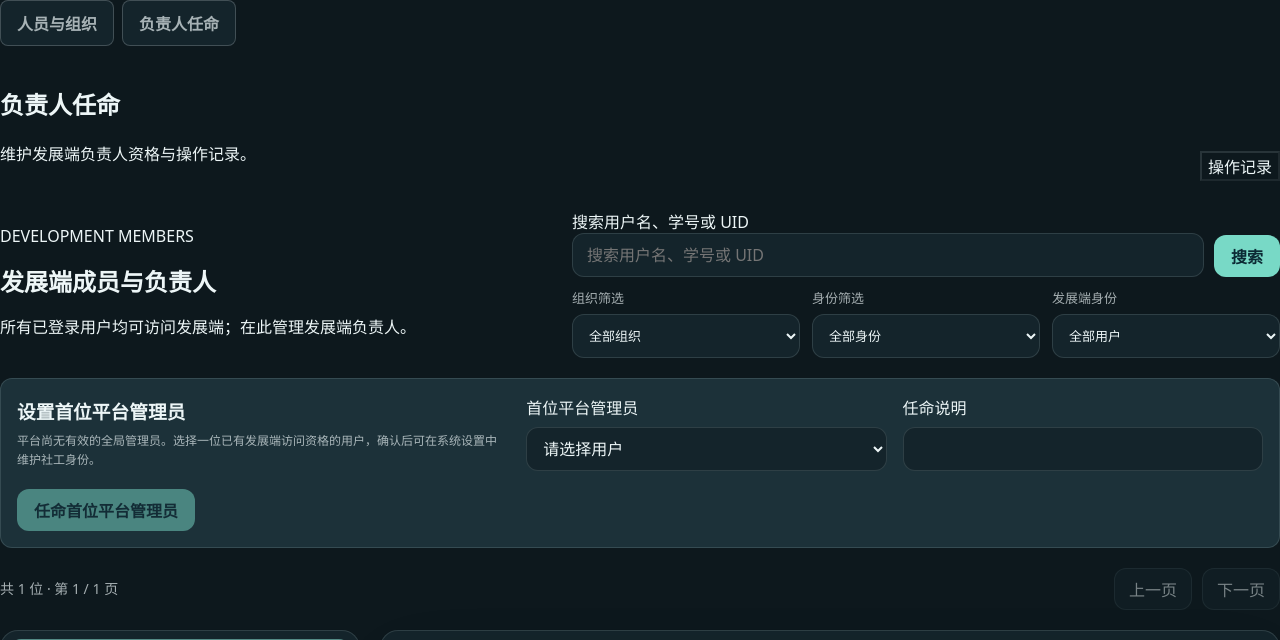
Test: AdminPage shell › initializes the first platform administrator only after selecting a user and confirming
The image size is (1280, 640).
expect the button "任命首位平台管理员" is disabled: met, box [17,489,195,531]
Select "Yuchong · uid-1001" in the dropdown labelled "首位平台管理员" at (706, 449), box [526,427,887,471]
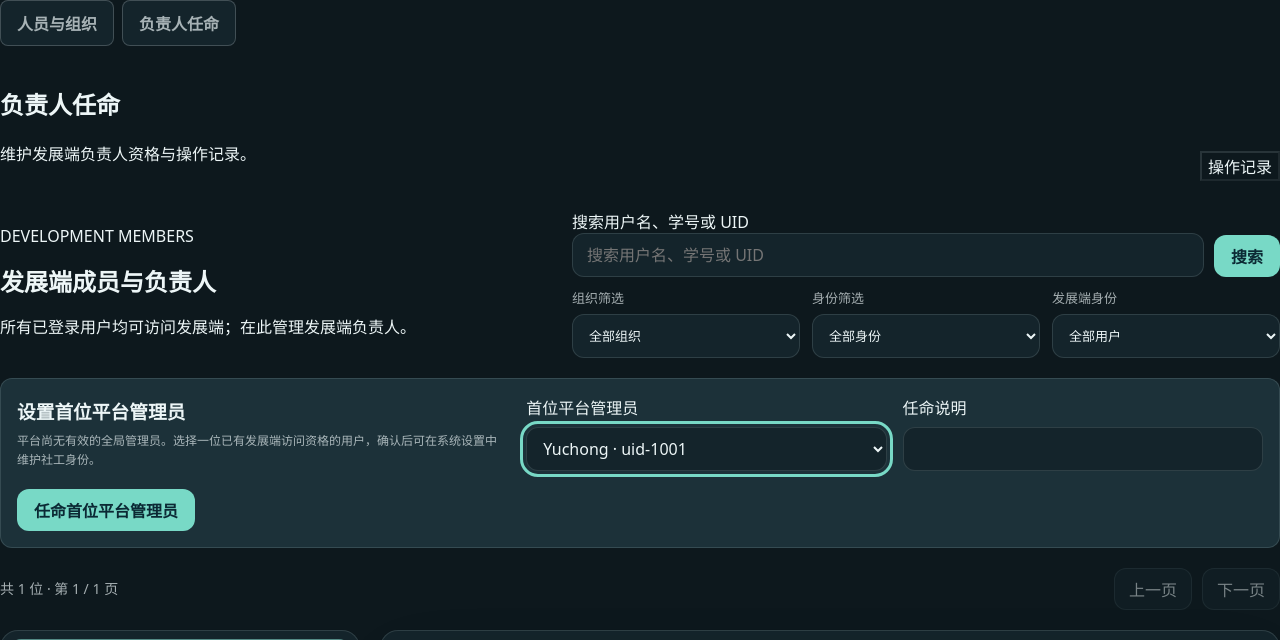
Type "初始化业务管理" into the field labelled "任命说明" at (1083, 449), box [903,427,1263,471]
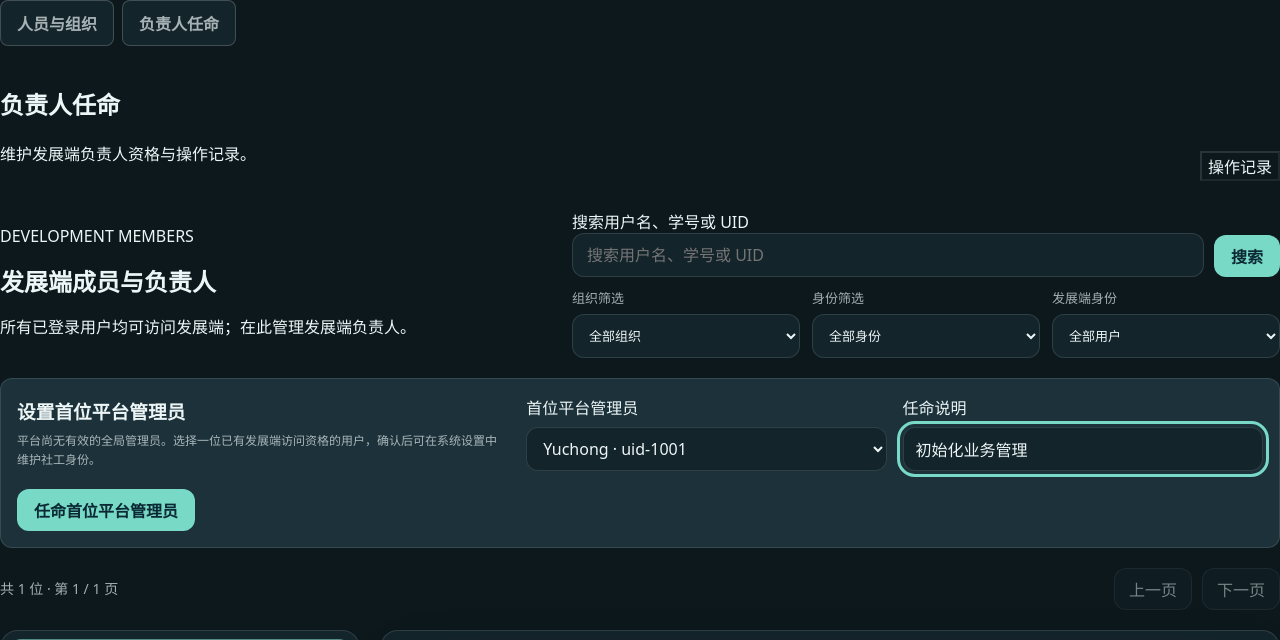
Click the button "任命首位平台管理员" at (106, 510), box [17,489,195,531]
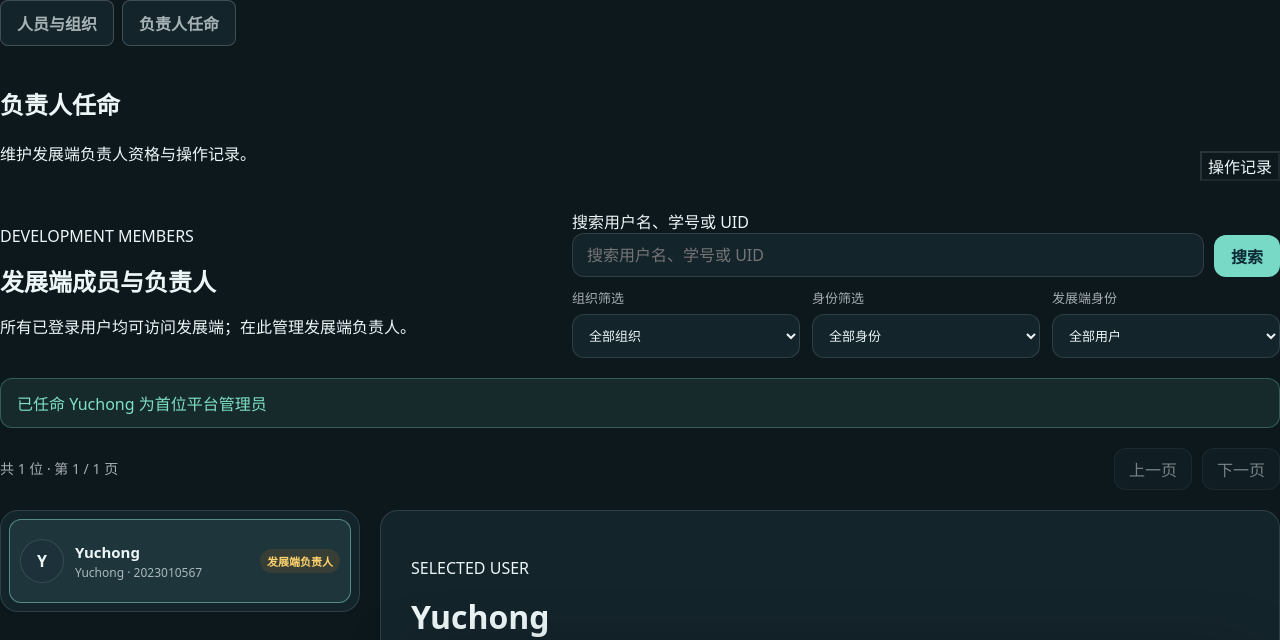
expect the button "任命首位平台管理员" is gone: met
expect the message reads "已任命 Yuchong 为首位平台管理员": met, box [17,393,267,415]
